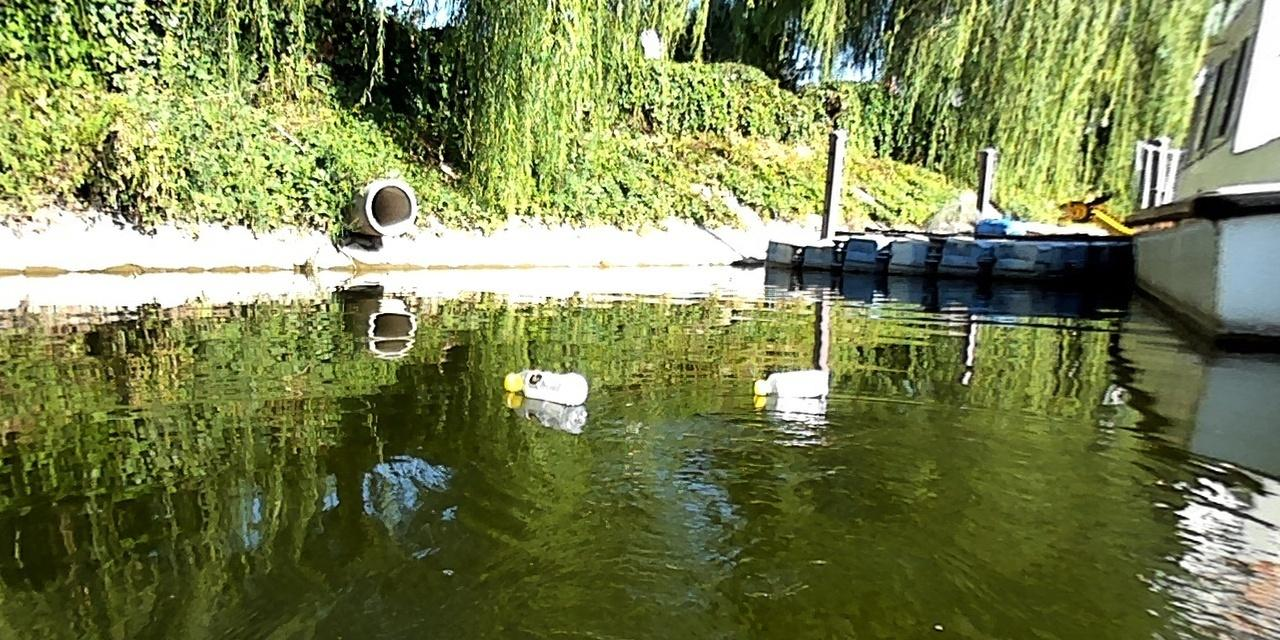bottle: (502, 367, 588, 405), (752, 368, 827, 398)
